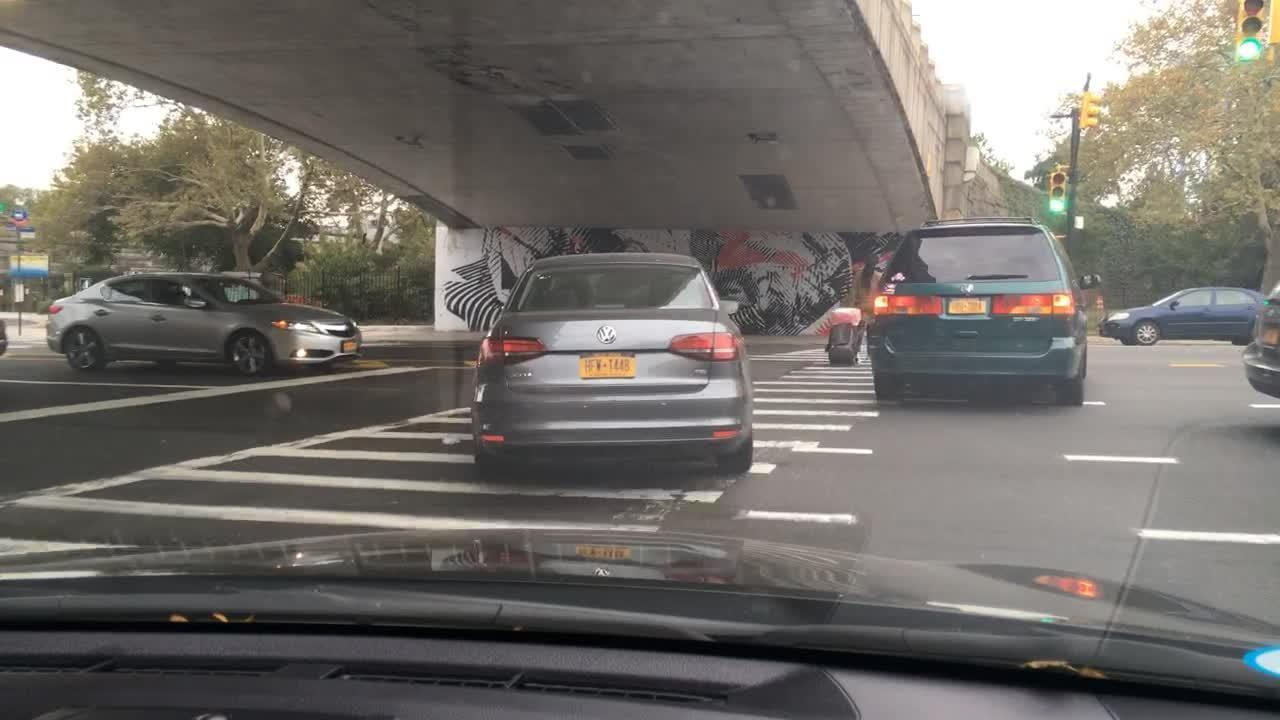Volkswagen: (595, 323, 617, 348)
